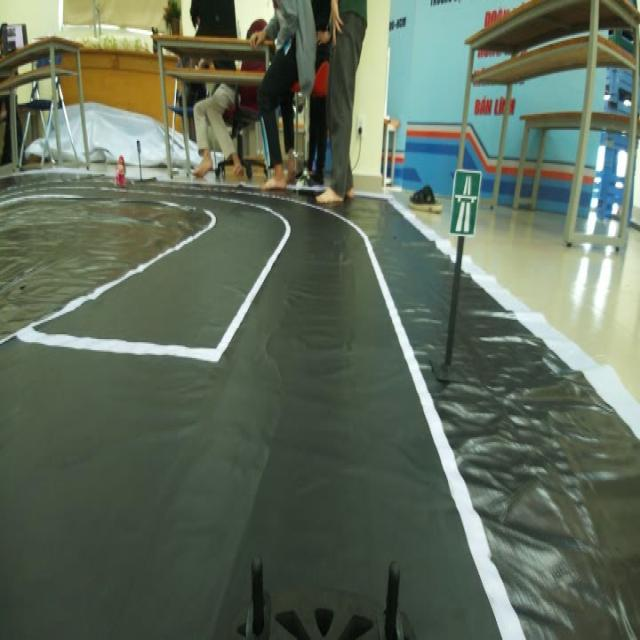highway_entry: (449, 162, 484, 245)
